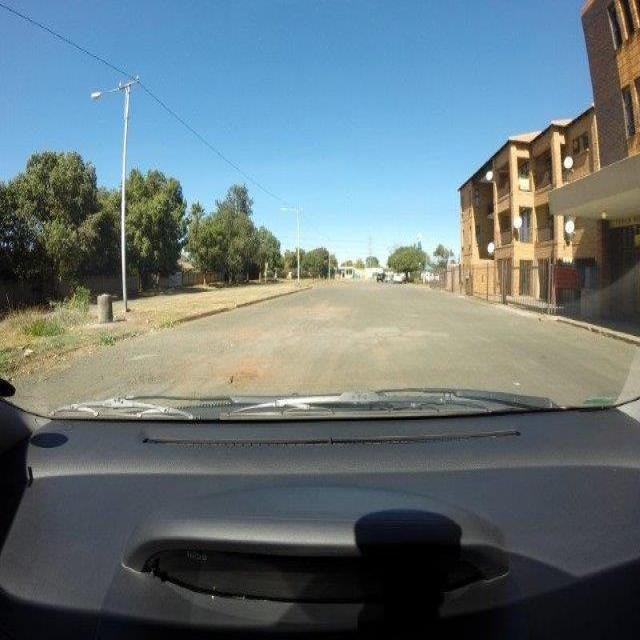lubang: (224, 368, 257, 391)
